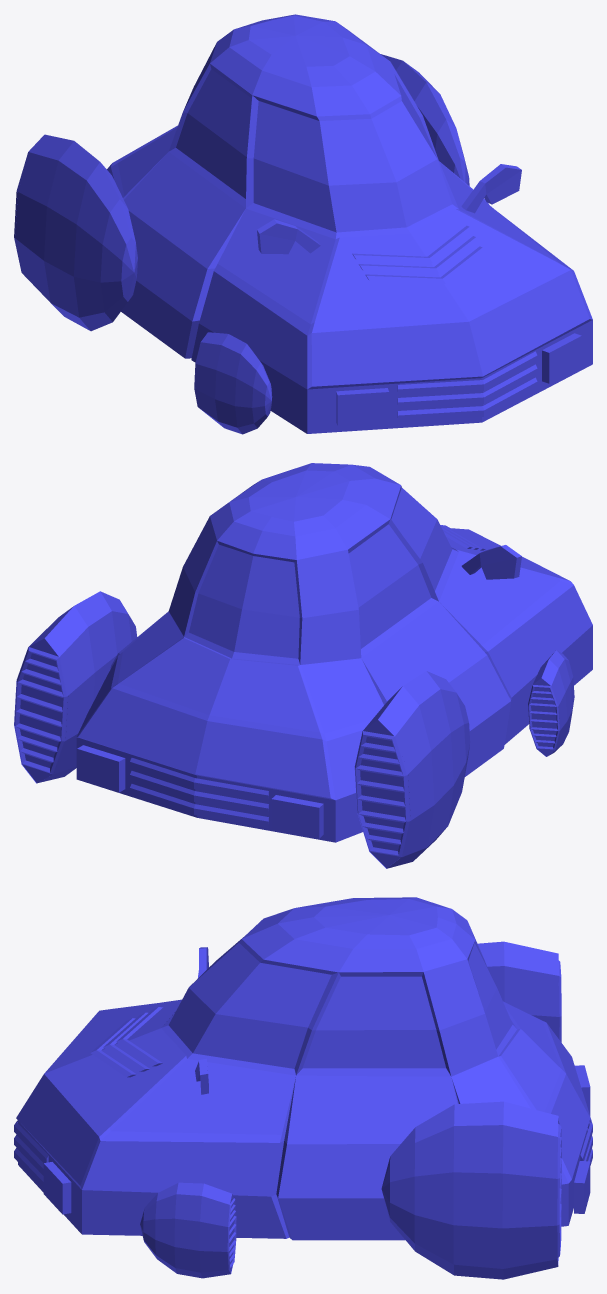
The model's file is avto 1.fbx.
3 renders of one model, top to bottom at view 1: azimuth 30°, elevation 25°; view 2: azimuth 150°, elevation 25°; view 3: azimuth 270°, elevation 25°, orthographic.
Parts seen in each view (by area): view 1: Куб; view 2: Куб; view 3: Куб.
Part boxes in pixels (x1,y1,x2,y2): Куб: [14, 14, 592, 434]; Куб: [14, 463, 592, 868]; Куб: [14, 897, 592, 1279].
Size of the model in its own units: 146 by 100 by 186.
